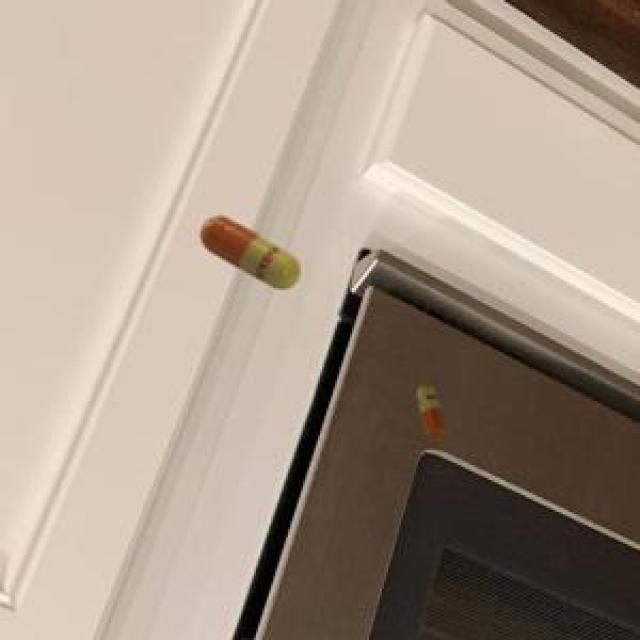Alaxan: (194, 203, 304, 300), (406, 375, 452, 443)
